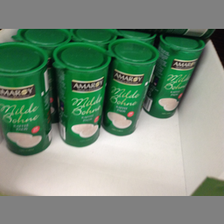coffee: (52, 41, 111, 147), (1, 43, 50, 156), (105, 39, 159, 136), (142, 36, 204, 117)
